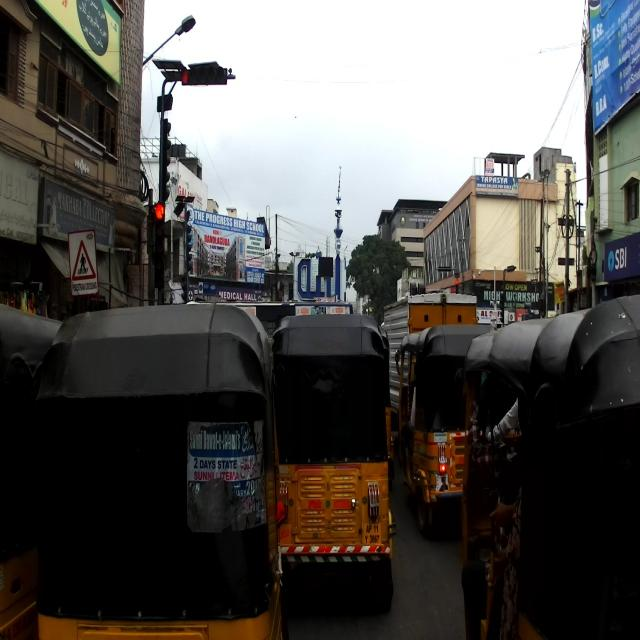autorickshaw: (32, 301, 288, 638), (453, 294, 640, 640), (269, 312, 397, 617), (0, 302, 71, 638), (394, 324, 498, 538)
